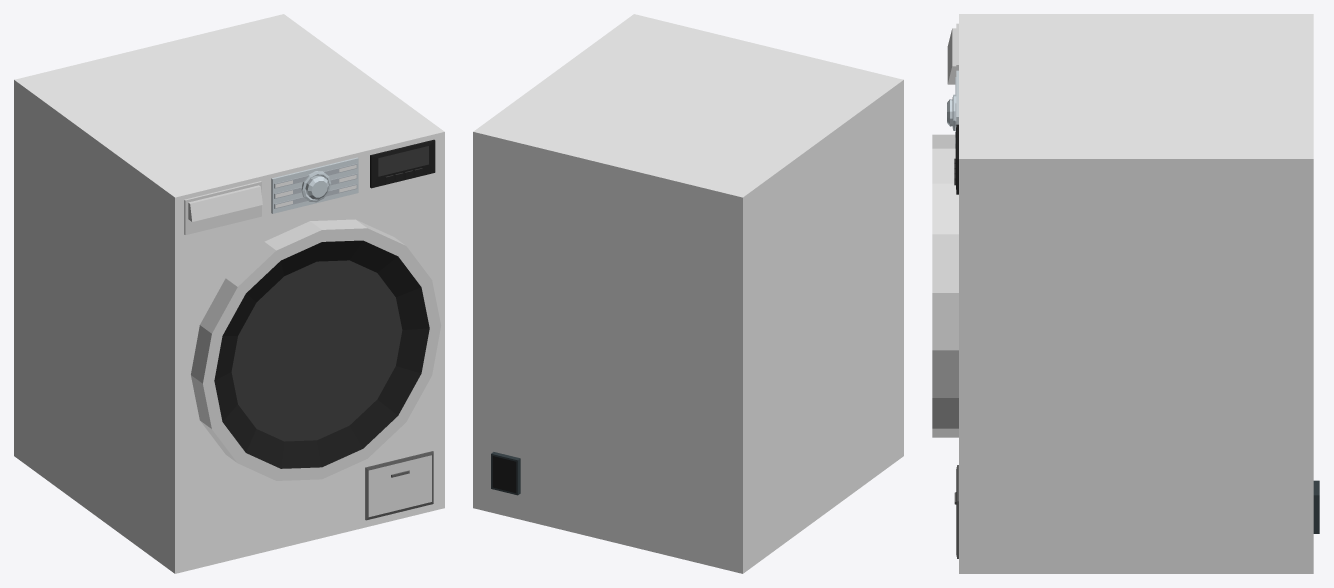
Rendered from KA-F600_Washer_V1.fbx.
3 views of the same model, side by side, from view 1: azimuth 30°, elevation 25°; view 2: azimuth 150°, elevation 25°; view 3: azimuth 270°, elevation 25° (orthographic). The views are drawn at different scales.
Parts seen in each view (by area): view 1: KA-F600_Washer_V1, KA-F600_Washer_V1_Door, KA-F600_Washer_V1_Tray, KA-F600_Washer_V1_Knob; view 2: KA-F600_Washer_V1; view 3: KA-F600_Washer_V1, KA-F600_Washer_V1_Door, KA-F600_Washer_V1_Tray.
Boxes of the visible parts, bbox=[...] form: KA-F600_Washer_V1: bbox=[14, 14, 444, 573]; KA-F600_Washer_V1_Door: bbox=[191, 219, 441, 480]; KA-F600_Washer_V1_Tray: bbox=[184, 181, 262, 235]; KA-F600_Washer_V1_Knob: bbox=[301, 171, 331, 202]; KA-F600_Washer_V1: bbox=[473, 14, 903, 573]; KA-F600_Washer_V1: bbox=[954, 14, 1319, 573]; KA-F600_Washer_V1_Door: bbox=[932, 134, 958, 437]; KA-F600_Washer_V1_Tray: bbox=[947, 23, 958, 84].
Bounding box in the file's own units: 60 × 80 × 67.72.
